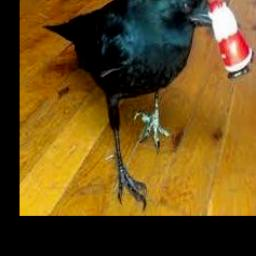Crow: (42, 0, 228, 209)
